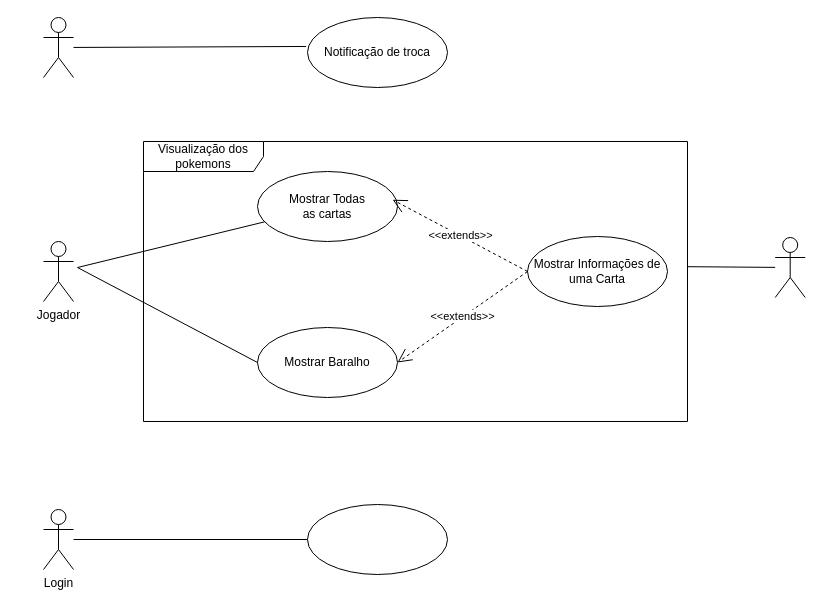
Some shapes in this 831 by 608 pixel diagram are drawn without their labels. Each missing label, with the box of its shape:
Pokedex: (774, 236, 805, 298)
Realizar autenticação: (306, 504, 448, 574)
Troca de cartas: (42, 16, 74, 78)
